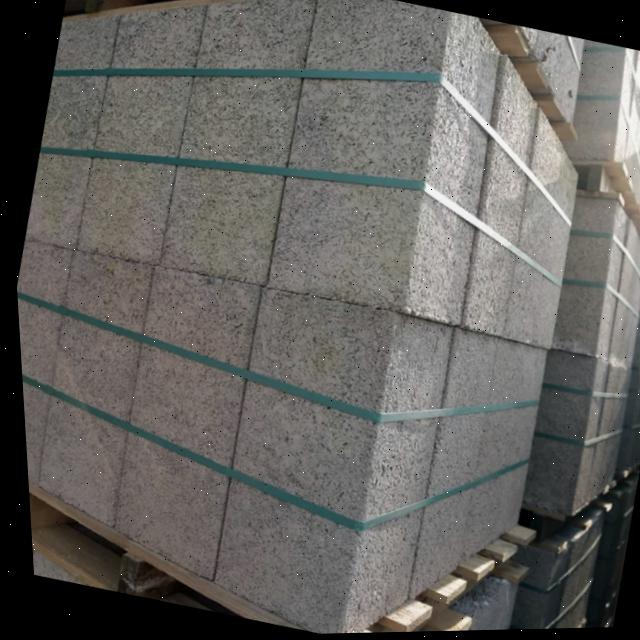bricks: (17, 0, 576, 634)
